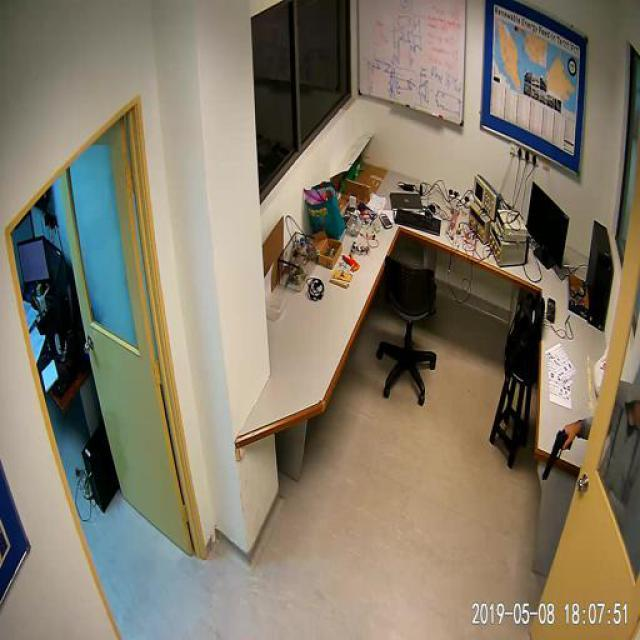Gun: (540, 428, 574, 482)
